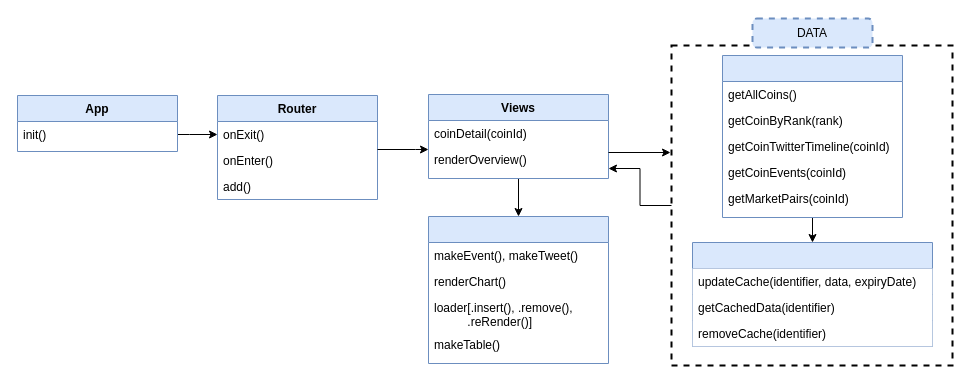
The diagram is 971 pixels wide and 383 high, and some of its shapes have lost their labels. The box of each missing label's shape, as (x1, y1, x2, y2) in pixels:
API: (722, 54, 902, 218)
Caching: (692, 242, 932, 346)
Components: (428, 216, 608, 364)
